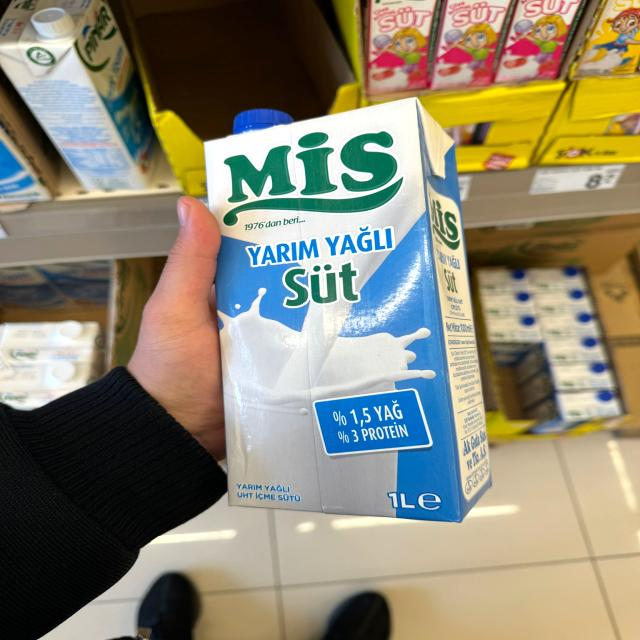milk: (208, 125, 484, 513)
